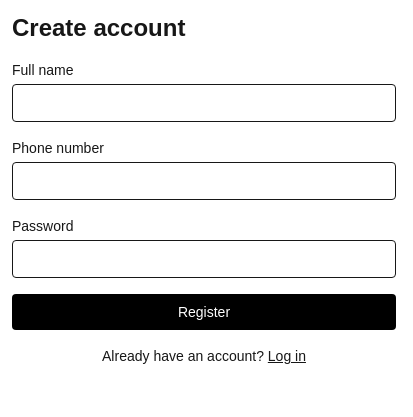
Test: RegisterForm › shows form-level banner on rate_limit_exceeded
In the field labelled "Full name": (204, 103) [12,84,396,122], type "Test User"
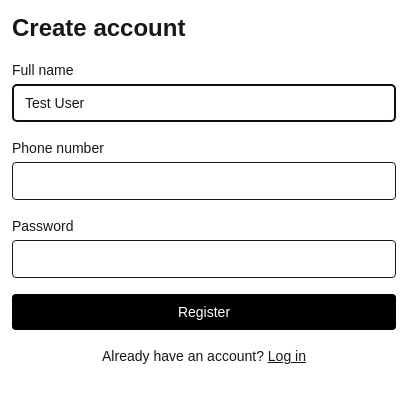
In the field labelled "Phone number": (204, 181) [12,162,396,200], type "+1234567890"
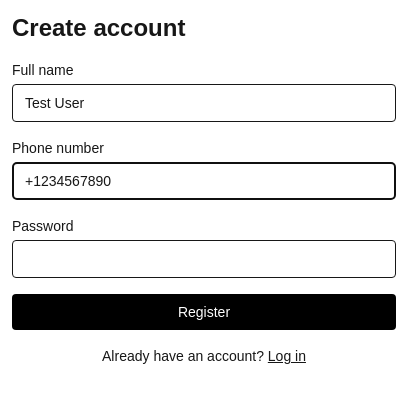
In the password field labelled "Password": (204, 259) [12,240,396,278], type "secret123"
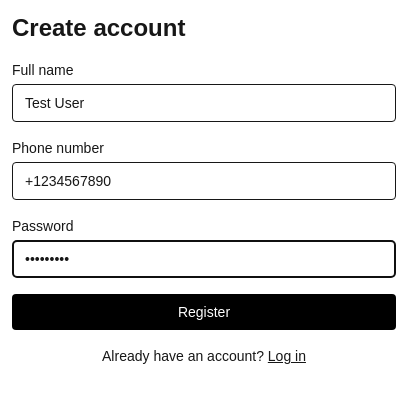
Click the button "Register": (204, 312) [12,294,396,330]
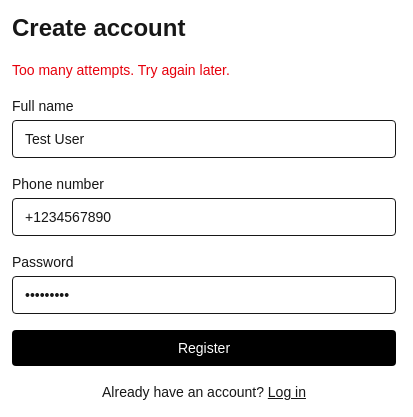
Check: the text "Too many attempts. Try again later." is shown, box [12,62,230,78]
